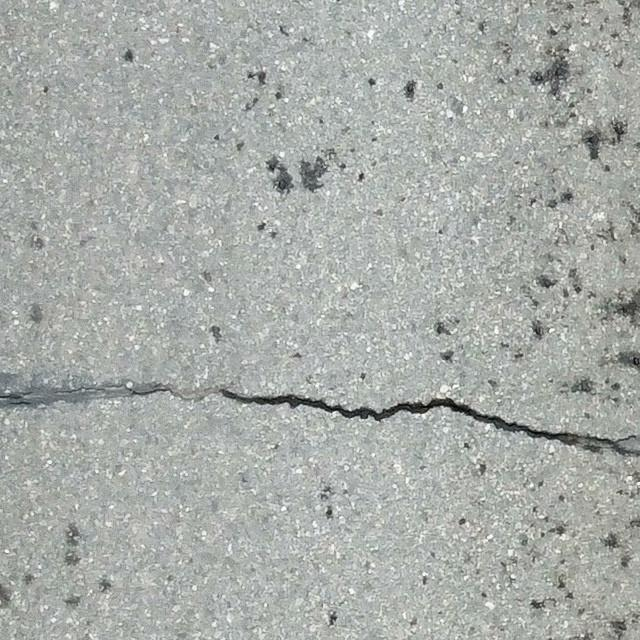TransverseCrack: (1, 380, 640, 457)
